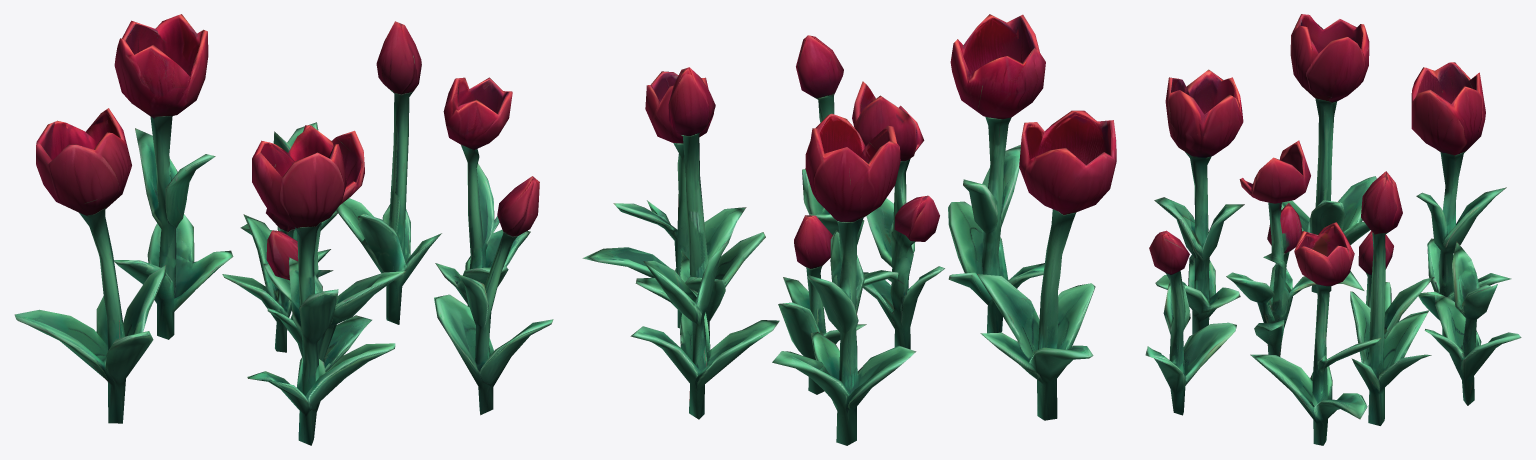
The picture shows the model from 3 angles, left to right: view 1: azimuth 30°, elevation 25°; view 2: azimuth 150°, elevation 25°; view 3: azimuth 270°, elevation 25°; orthographic projection. The views are drawn at different scales.
Parts seen in each view (by area): view 1: Mesh_0; view 2: Mesh_0; view 3: Mesh_0.
Part boxes in pixels (left/top/right/bottom): Mesh_0: left=14, top=14, right=553, bottom=445; Mesh_0: left=582, top=14, right=1116, bottom=445; Mesh_0: left=1145, top=14, right=1521, bottom=445.
Bounding box in the file's own units: 1.91 × 1.12 × 1.42.
Materials: 1 (1 with a texture image).
